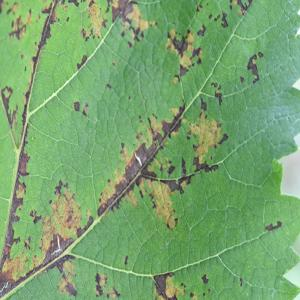Folha: (0, 0, 299, 299)
Fungo: (96, 98, 186, 217), (165, 0, 254, 85), (44, 186, 92, 273), (3, 140, 40, 230), (0, 223, 43, 299), (186, 97, 228, 174), (12, 73, 47, 151), (30, 5, 61, 84), (165, 27, 203, 83), (80, 0, 108, 41), (148, 269, 184, 300), (247, 51, 263, 83), (192, 154, 218, 173), (8, 14, 26, 40), (229, 0, 253, 16), (94, 272, 107, 296), (128, 24, 144, 42), (51, 234, 63, 256), (106, 285, 120, 299), (265, 220, 282, 231), (76, 54, 87, 70), (215, 84, 222, 105), (197, 23, 206, 36), (221, 11, 228, 27), (200, 97, 207, 111), (172, 73, 180, 84), (82, 102, 88, 116), (201, 273, 208, 283), (73, 101, 80, 111), (196, 3, 202, 13), (105, 82, 111, 90), (127, 40, 133, 48), (124, 254, 128, 265), (211, 81, 217, 88), (258, 51, 264, 58), (239, 276, 243, 286), (180, 282, 186, 288), (190, 291, 194, 298), (240, 76, 244, 82)
